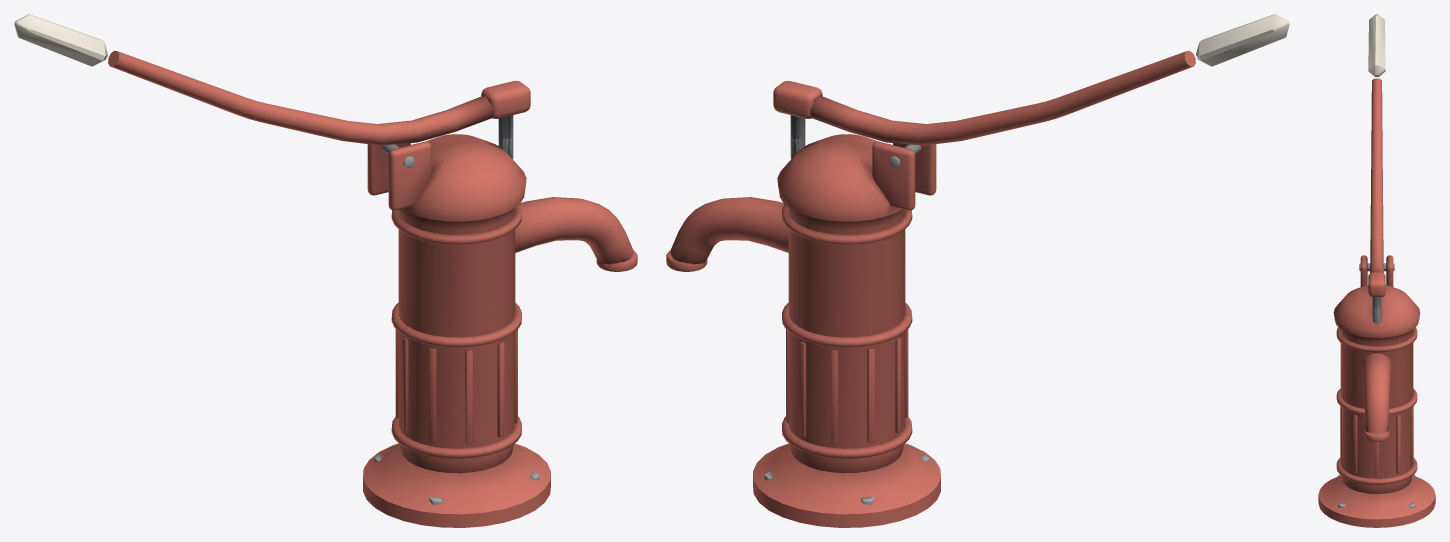
Rendered from nd_hand_pump.glb.
The picture shows the model from 3 angles, left to right: view 1: azimuth 30°, elevation 25°; view 2: azimuth 150°, elevation 25°; view 3: azimuth 270°, elevation 25°; orthographic projection. The views are drawn at different scales.
Parts seen in each view (by area): view 1: PART, LEVER; view 2: PART, LEVER; view 3: PART, LEVER.
Boxes of the visible parts, left/top/right/bottom form: PART: left=363, top=134, right=637, bottom=527; LEVER: left=14, top=14, right=530, bottom=155; PART: left=666, top=134, right=940, bottom=527; LEVER: left=773, top=14, right=1289, bottom=155; PART: left=1318, top=255, right=1435, bottom=527; LEVER: left=1368, top=14, right=1385, bottom=319.
Bounding box in the file's own units: 0.7588 × 0.6756 × 0.2.
